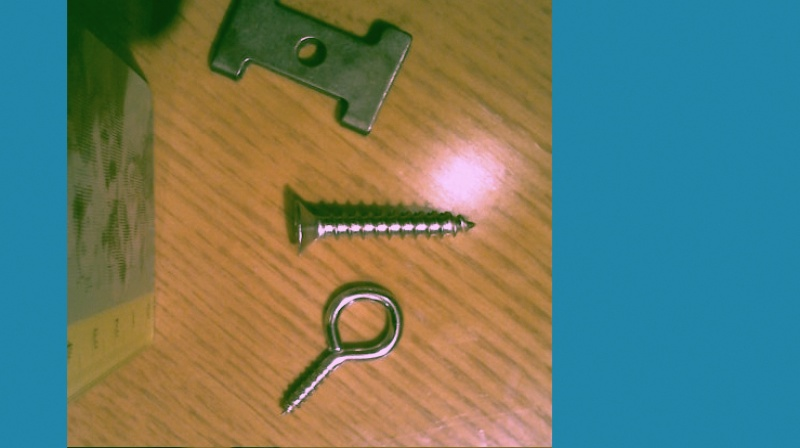O001: (273, 278, 406, 416)
O002: (206, 0, 415, 137)
S001: (286, 196, 476, 259)
